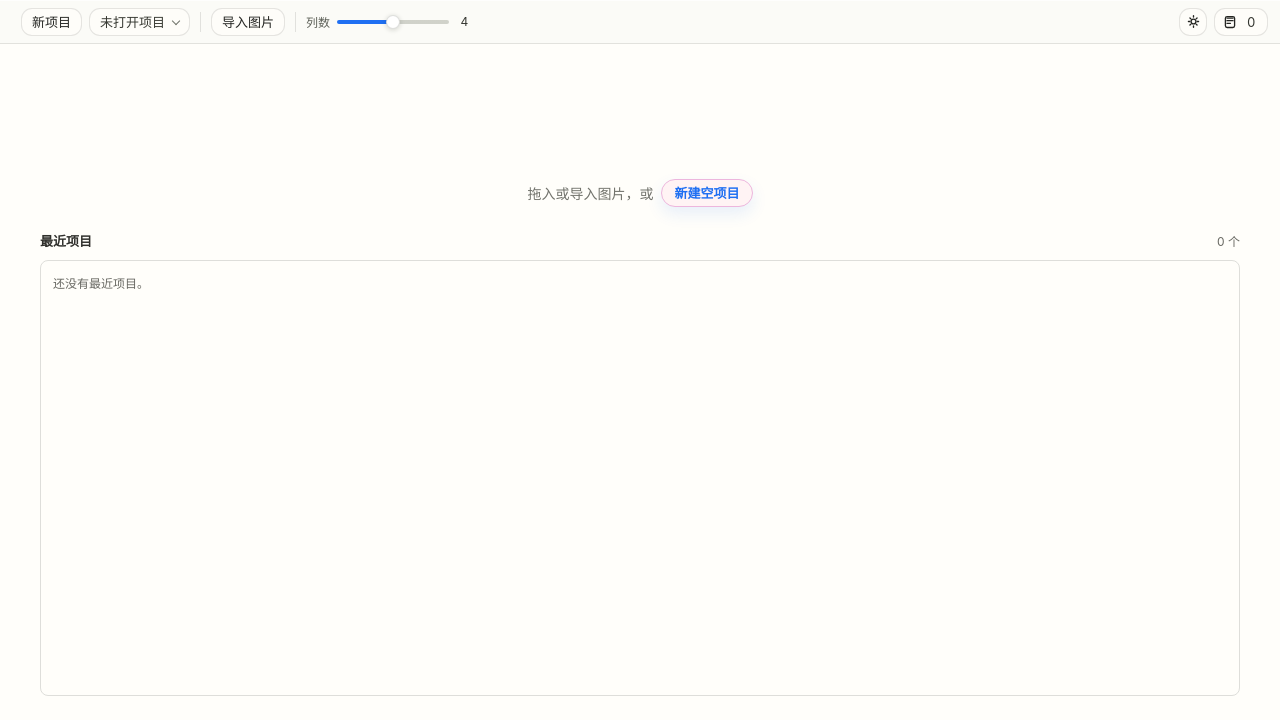
Test: App image preview behavior › keeps the image preview open when a project snapshot update follows the opening double click
This screenshot has width=1280, height=720.
Click the button "导入图片".
click(248, 22)  # box [211,8,285,36]
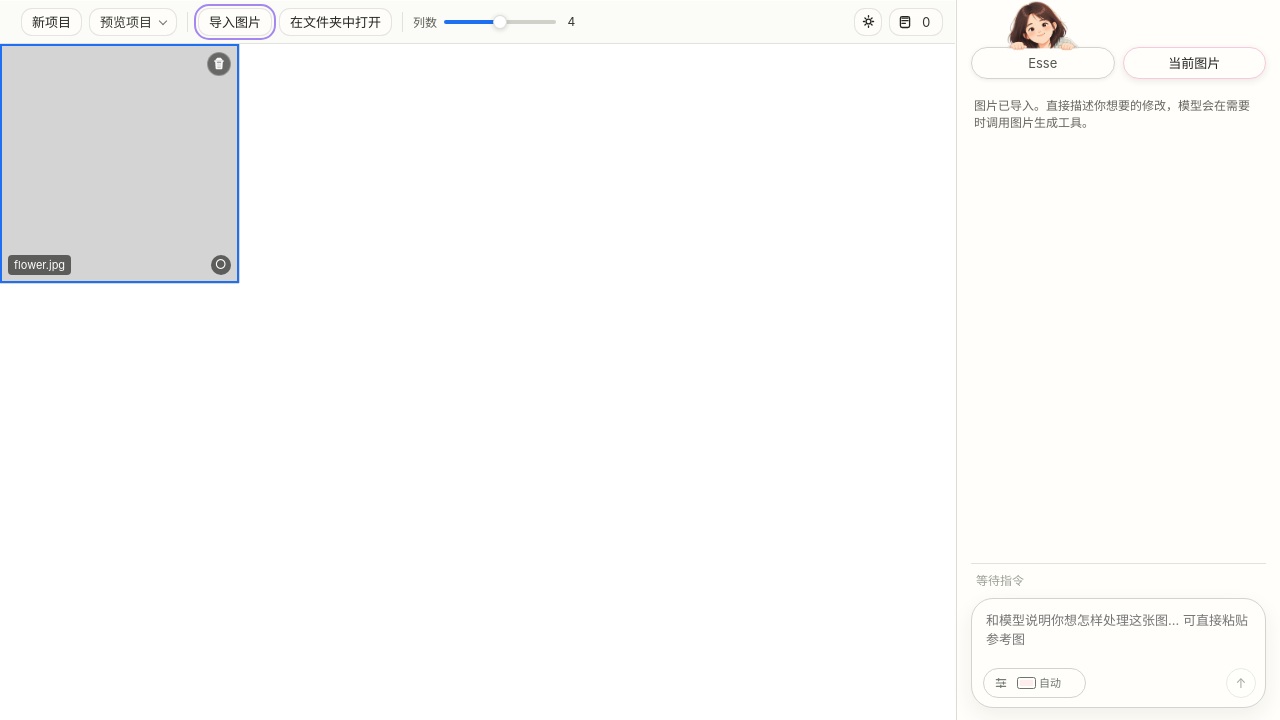
Double-click the button titled "双击查看大图，右键打开菜单".
double_click(119, 163)  # box [0,44,239,283]
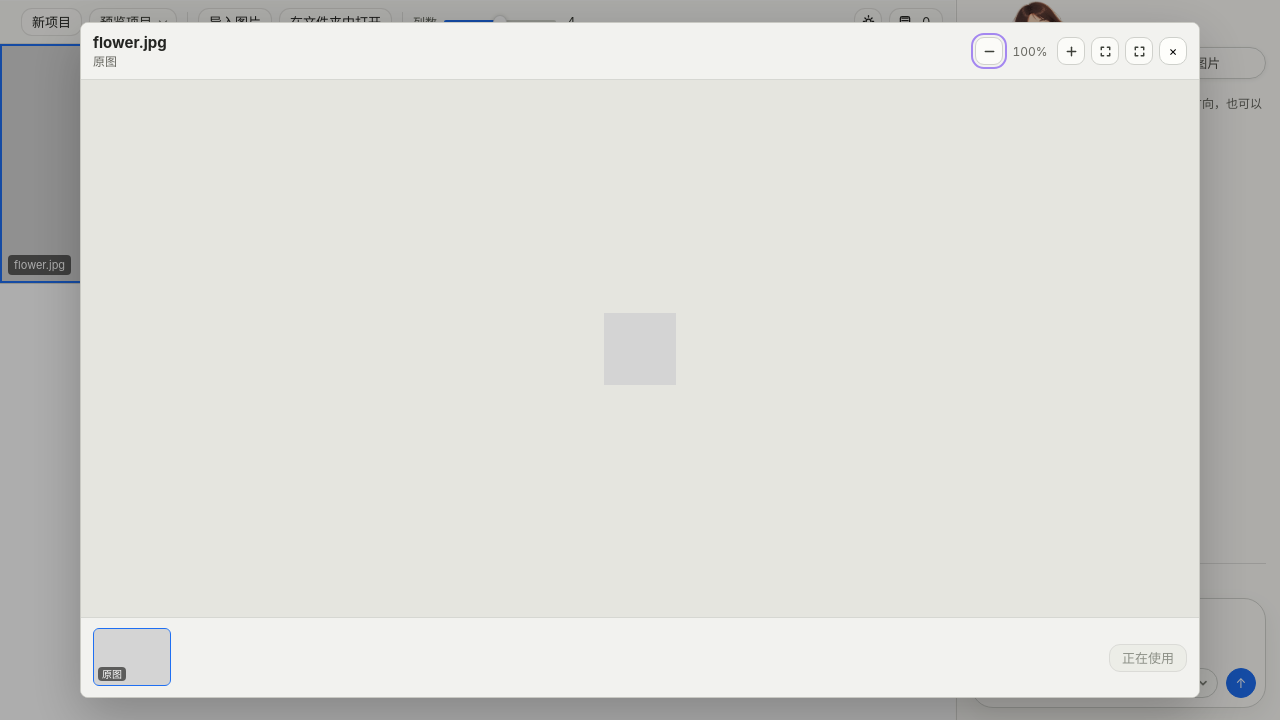
Result: the dialog "flower.jpg" is shown
